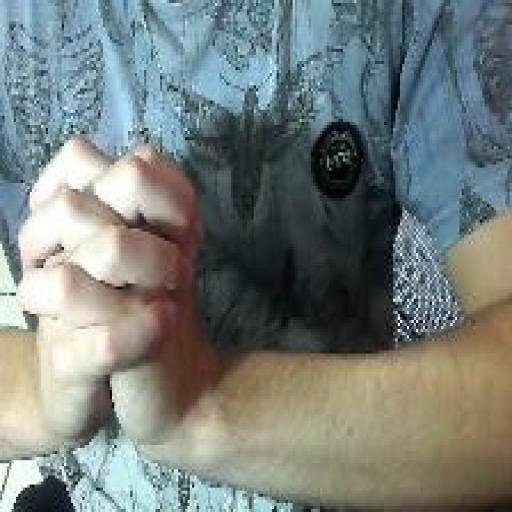Mi -snake-: (13, 131, 209, 466)
